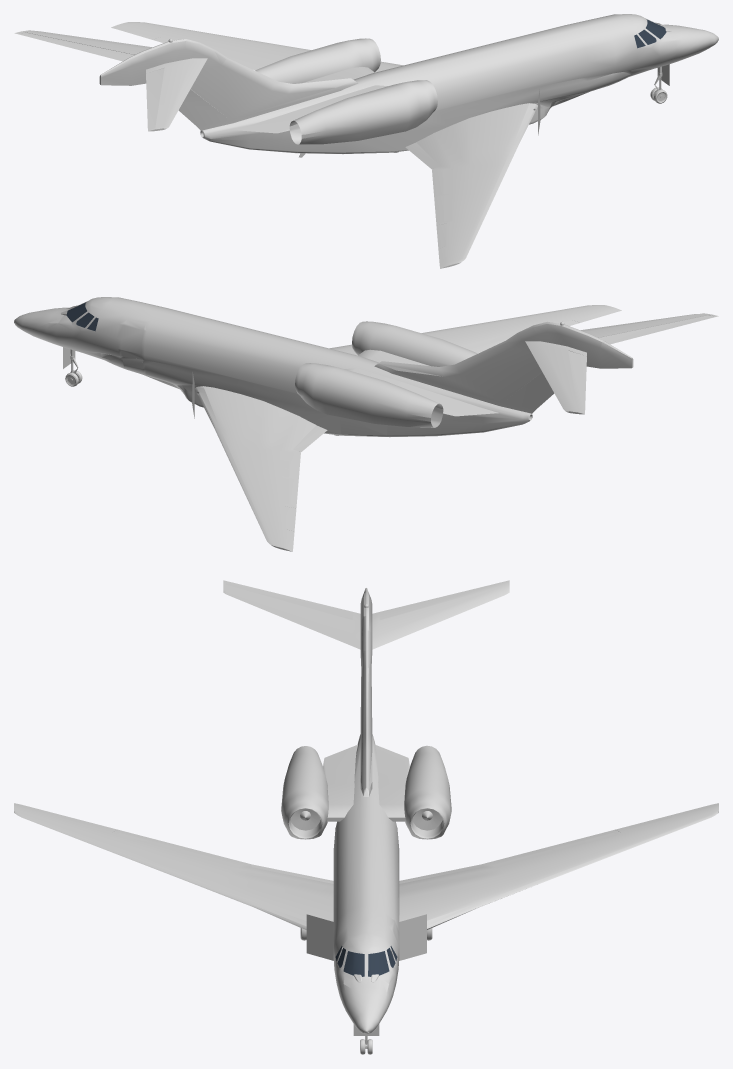
The picture shows the model from 3 angles, top to bottom: view 1: azimuth 30°, elevation 25°; view 2: azimuth 150°, elevation 25°; view 3: azimuth 270°, elevation 25°; orthographic projection. The views are drawn at different scales.
Visible parts, largest first — view 1: body, glass; view 2: body, glass; view 3: body, glass.
Boxes of the visible parts, box(x1,y1,x2,y2) form: body: box(14, 14, 718, 268); glass: box(634, 19, 666, 48); body: box(14, 297, 718, 551); glass: box(66, 302, 98, 331); body: box(14, 580, 718, 1054); glass: box(335, 946, 397, 976).
Bounding box in the file's own units: 2.2 × 0.6325 × 1.97.
